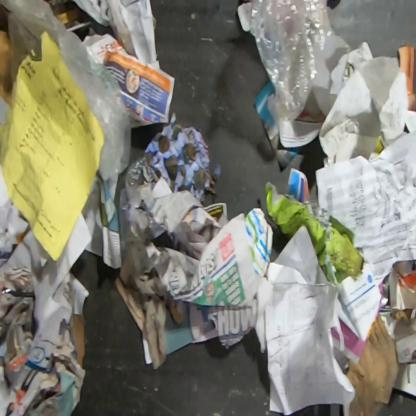cardboard: (344, 311, 401, 415), (69, 312, 86, 369), (0, 30, 11, 105), (391, 308, 413, 320)
soft_plastic: (0, 0, 133, 182), (249, 0, 337, 121), (124, 155, 148, 209)
